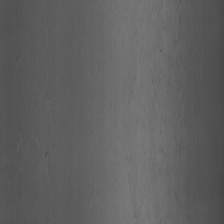silk_spot: (128, 31, 177, 135), (38, 108, 67, 174)
